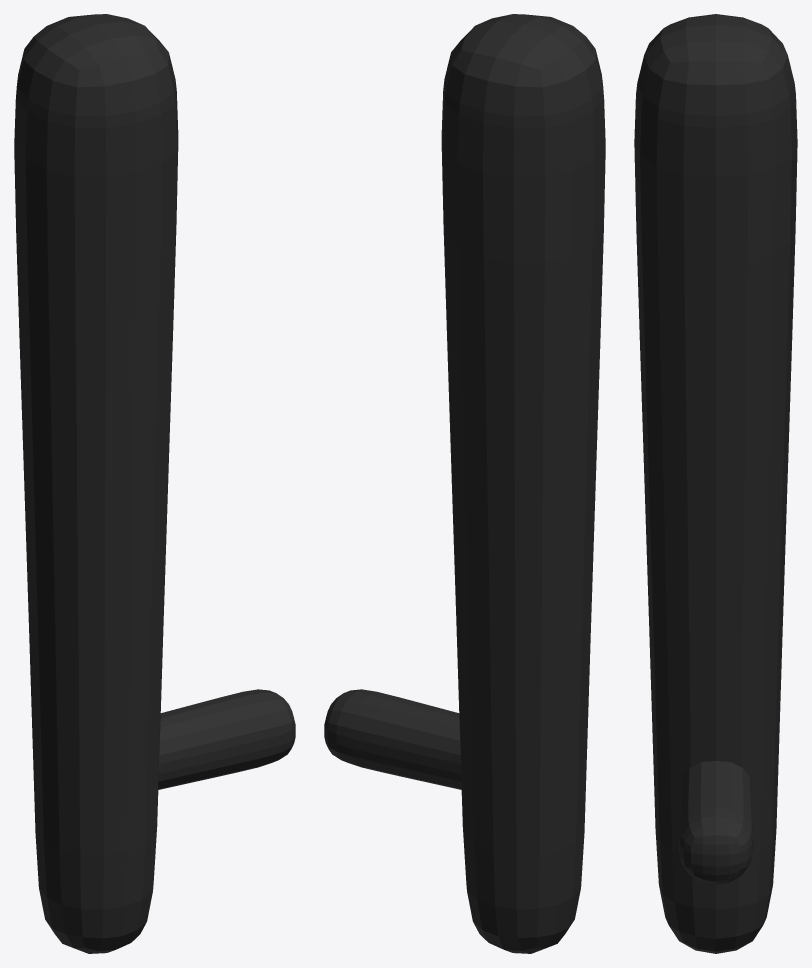
File: Police_Baton.fbx
3 views of the same model, side by side, from view 1: azimuth 30°, elevation 25°; view 2: azimuth 150°, elevation 25°; view 3: azimuth 270°, elevation 25° (orthographic).
Parts seen in each view (by area): view 1: Police_Baton; view 2: Police_Baton; view 3: Police_Baton.
Part boxes in pixels (x1=…): Police_Baton: x1=14, y1=14, x2=295, y2=953; Police_Baton: x1=324, y1=14, x2=605, y2=953; Police_Baton: x1=634, y1=14, x2=797, y2=953.
Bounding box in the file's own units: 736 × 2468 × 395.
Materials: 1 (1 with a texture image).
